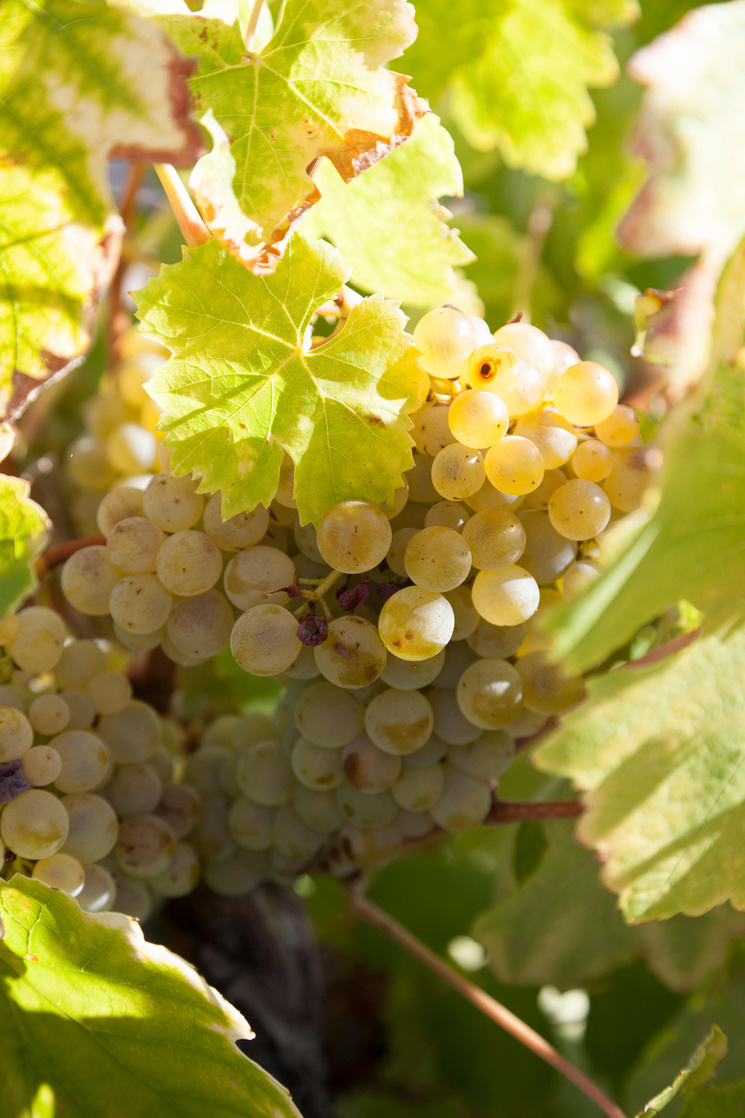Green grapes: (65, 327, 646, 885)
